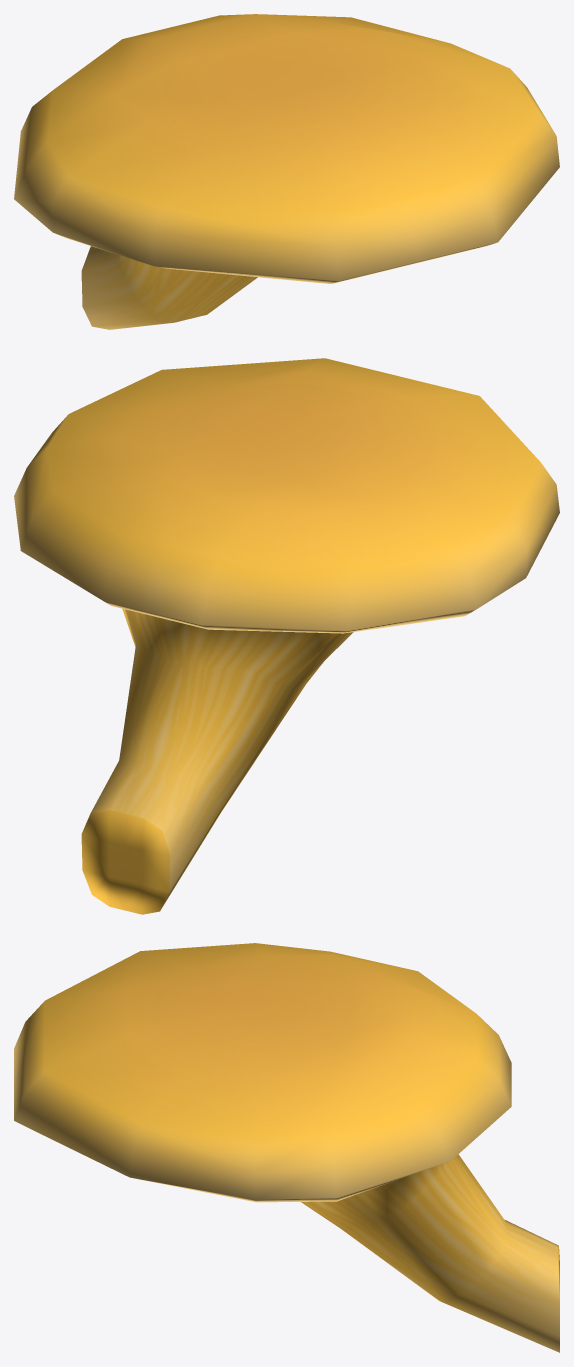
The model's file is oyster_1.fbx.
3 renders of one model, top to bottom at view 1: azimuth 30°, elevation 25°; view 2: azimuth 150°, elevation 25°; view 3: azimuth 270°, elevation 25°, orthographic. The views are drawn at different scales.
Parts seen in each view (by area): view 1: oyster_big; view 2: oyster_big; view 3: oyster_big.
Boxes of the visible parts, x1,y1,x2,y2 form: oyster_big: [14, 14, 559, 329]; oyster_big: [14, 358, 559, 914]; oyster_big: [14, 943, 559, 1352].
Bounding box in the file's own units: 9.98 × 7.27 × 10.67.
